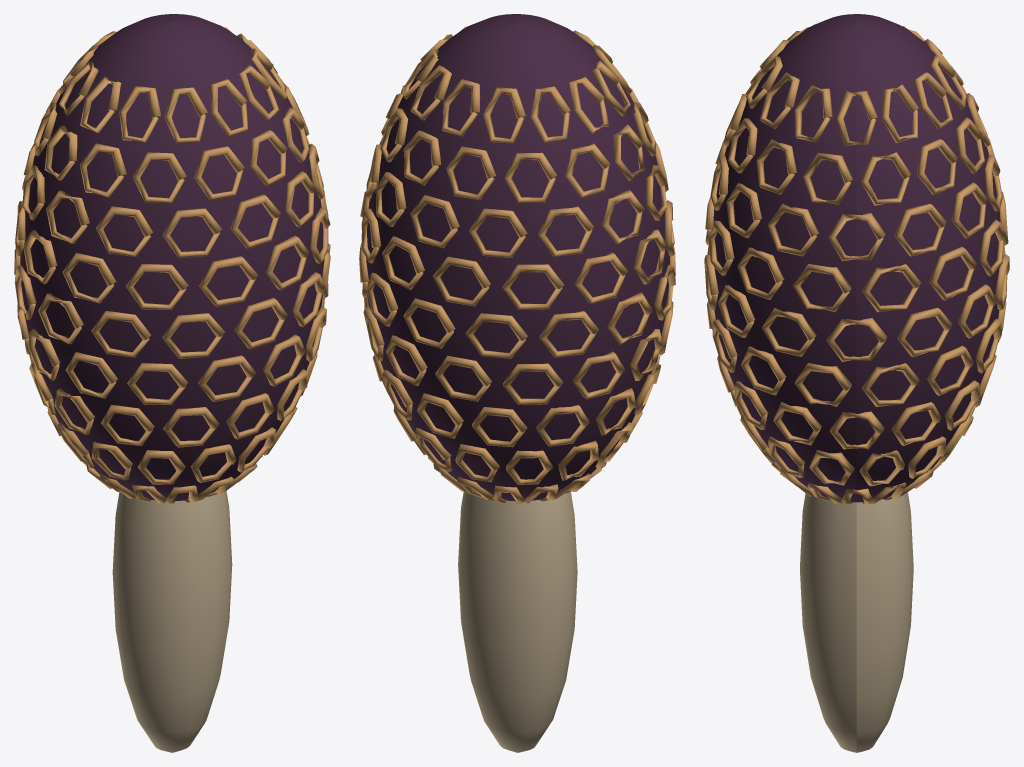
File: enchanted-morel.glb
3 renders of one model, left to right at view 1: azimuth 30°, elevation 25°; view 2: azimuth 150°, elevation 25°; view 3: azimuth 270°, elevation 25°, orthographic.
Parts seen in each view (by area): view 1: enchanted-morel-sculpted-details; view 2: enchanted-morel-sculpted-details; view 3: enchanted-morel-sculpted-details.
Boxes of the visible parts, box(x1,y1,x2,y2) form: enchanted-morel-sculpted-details: box(14, 14, 330, 752); enchanted-morel-sculpted-details: box(359, 14, 675, 752); enchanted-morel-sculpted-details: box(704, 14, 1009, 752).
Size of the model in its own units: 0.3984 by 1 by 0.3794.
